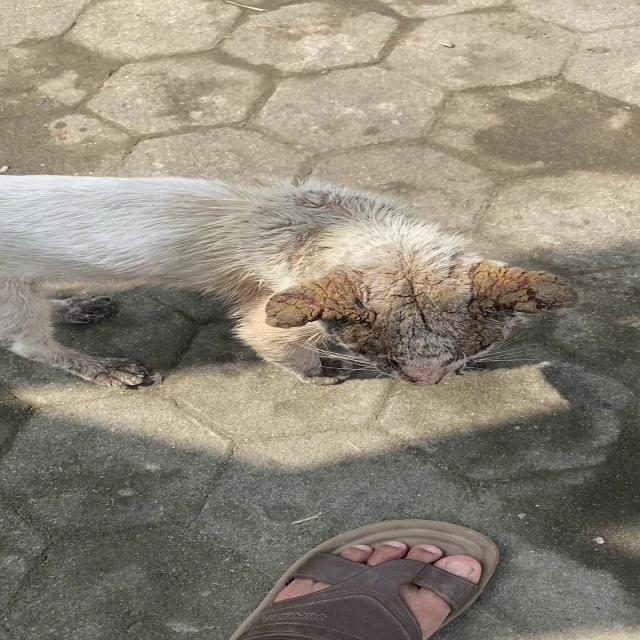ghe: (245, 269, 384, 342), (355, 270, 455, 352), (438, 259, 544, 332)
